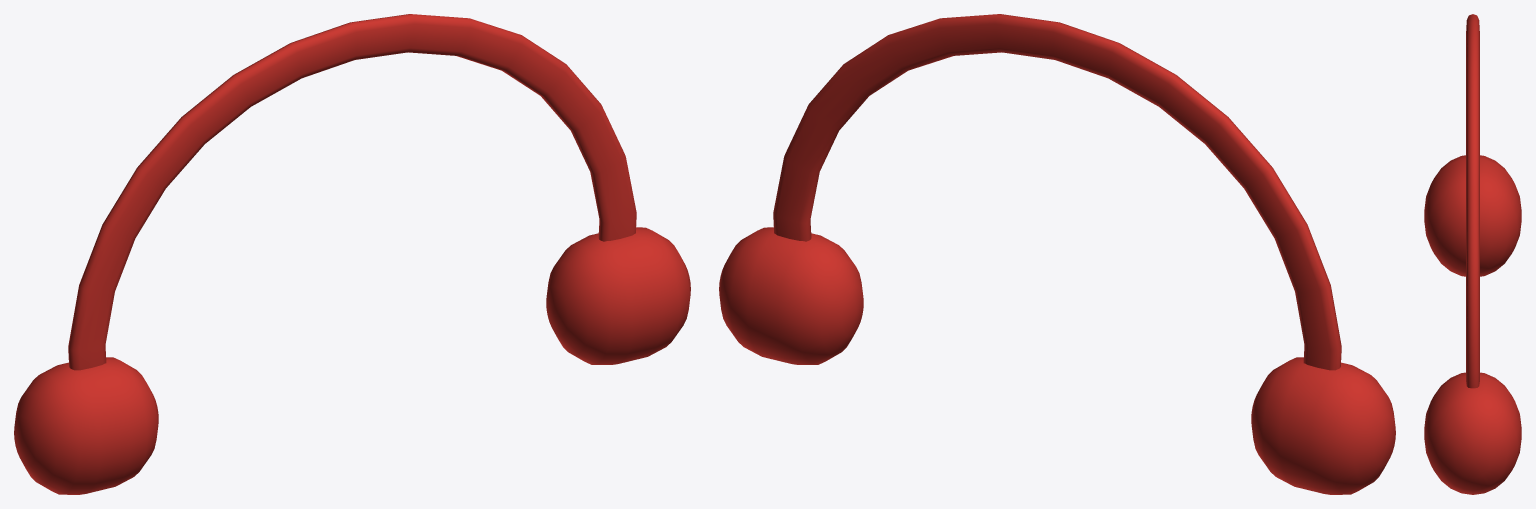
The model's file is hw_ears.glb.
The picture shows the model from 3 angles, left to right: view 1: azimuth 30°, elevation 25°; view 2: azimuth 150°, elevation 25°; view 3: azimuth 270°, elevation 25°; orthographic projection. The views are drawn at different scales.
Visible parts, largest first — view 1: hw_ears, hw_ears_cups; view 2: hw_ears, hw_ears_cups; view 3: hw_ears_cups, hw_ears.
Part boxes in pixels (x1,y1,x2,y2): hw_ears: [68, 14, 636, 370]; hw_ears_cups: [14, 227, 690, 494]; hw_ears: [773, 14, 1341, 370]; hw_ears_cups: [719, 227, 1395, 494]; hw_ears_cups: [1424, 155, 1521, 494]; hw_ears: [1466, 14, 1479, 388].
Size of the model in its own units: 1.12 by 0.6464 by 0.1699.
